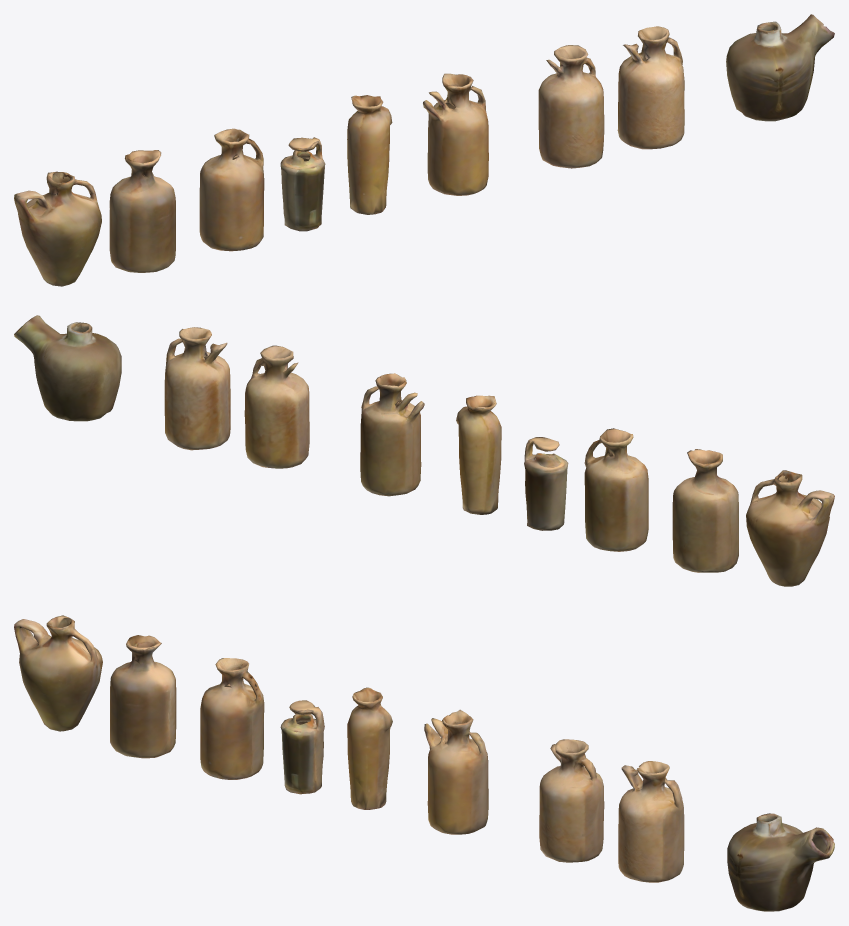
The model's file is mazen3.glb.
3 renders of one model, top to bottom at view 1: azimuth 30°, elevation 25°; view 2: azimuth 150°, elevation 25°; view 3: azimuth 330°, elevation 25°, orthographic.
Bounding box in the file's own units: 2.01 × 0.2548 × 0.1853.
1 material, 1 textured.
